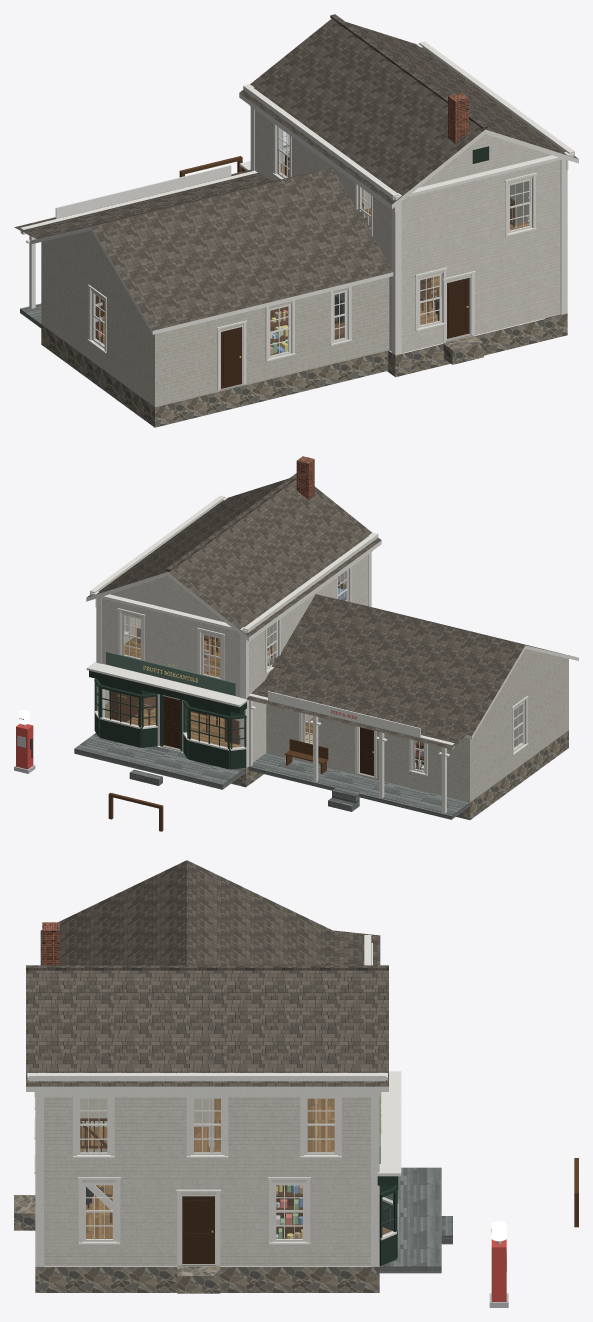
File: P-STORE.glb
3 renders of one model, top to bottom at view 1: azimuth 30°, elevation 25°; view 2: azimuth 150°, elevation 25°; view 3: azimuth 270°, elevation 25°, orthographic. The views are drawn at different scales.
Parts seen in each view (by area): view 1: addition-col, addition_roof-col, shell-col, roof-col, trim, windows, porch_roof-col, glass, signs-col, porch-col, addition_fittings-col, doorframe (+4 smaller); view 2: addition_roof-col, roof-col, addition-col, shopfront-col, shell-col, porch-col, trim, glass, windows, porch_roof-col, signs-col, floors-col (+8 smaller); view 3: shell-col, roof-col, addition_roof-col, shopfront-col, trim, windows, glass, floors-col, door_side__n, steps-col, porch_roof-col, store_fittings-col (+3 smaller).
Boxes of the visible parts, <box> form: addition-col: <box>41,230,389,427</box>; addition_roof-col: <box>29,167,393,334</box>; shell-col: <box>255,110,567,377</box>; roof-col: <box>239,14,578,208</box>; trim: <box>243,41,574,355</box>; windows: <box>87,124,536,361</box>; porch_roof-col: <box>14,170,273,238</box>; glass: <box>95,129,528,355</box>; signs-col: <box>55,145,288,218</box>; porch-col: <box>20,170,257,327</box>; addition_fittings-col: <box>95,292,344,355</box>; doorframe: <box>216,271,475,390</box>; addition_roof-col: <box>265,594,578,739</box>; roof-col: <box>86,456,381,640</box>; addition-col: <box>266,648,568,819</box>; shopfront-col: <box>74,661,248,789</box>; shell-col: <box>102,555,367,787</box>; porch-col: <box>248,693,469,819</box>; trim: <box>90,495,378,768</box>; glass: <box>96,572,522,770</box>; windows: <box>118,567,528,775</box>; porch_roof-col: <box>246,681,470,749</box>; signs-col: <box>106,651,420,737</box>; floors-col: <box>124,636,274,747</box>; shell-col: <box>35,1097,379,1292</box>; roof-col: <box>26,922,388,1091</box>; addition_roof-col: <box>40,860,331,965</box>; shopfront-col: <box>377,1071,452,1273</box>; trim: <box>27,1073,387,1266</box>; windows: <box>34,1097,341,1244</box>; glass: <box>81,1099,393,1238</box>; floors-col: <box>80,1098,334,1238</box>; door_side__n: <box>182,1196,214,1263</box>; steps-col: <box>14,1195,220,1293</box>; porch_roof-col: <box>326,929,380,965</box>; store_fittings-col: <box>86,1185,302,1238</box>.
Size of what is drawn, in the model's own units: 16.49 by 8.99 by 14.99.
Materials: 40 (16 with a texture image).
